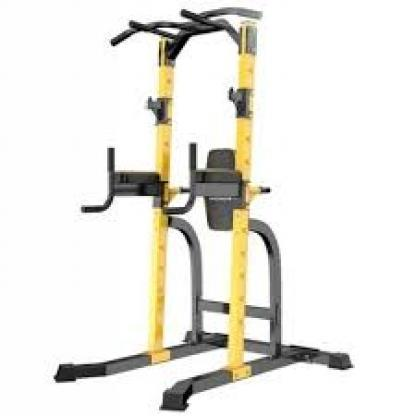chinning dipping: (54, 7, 354, 412)
